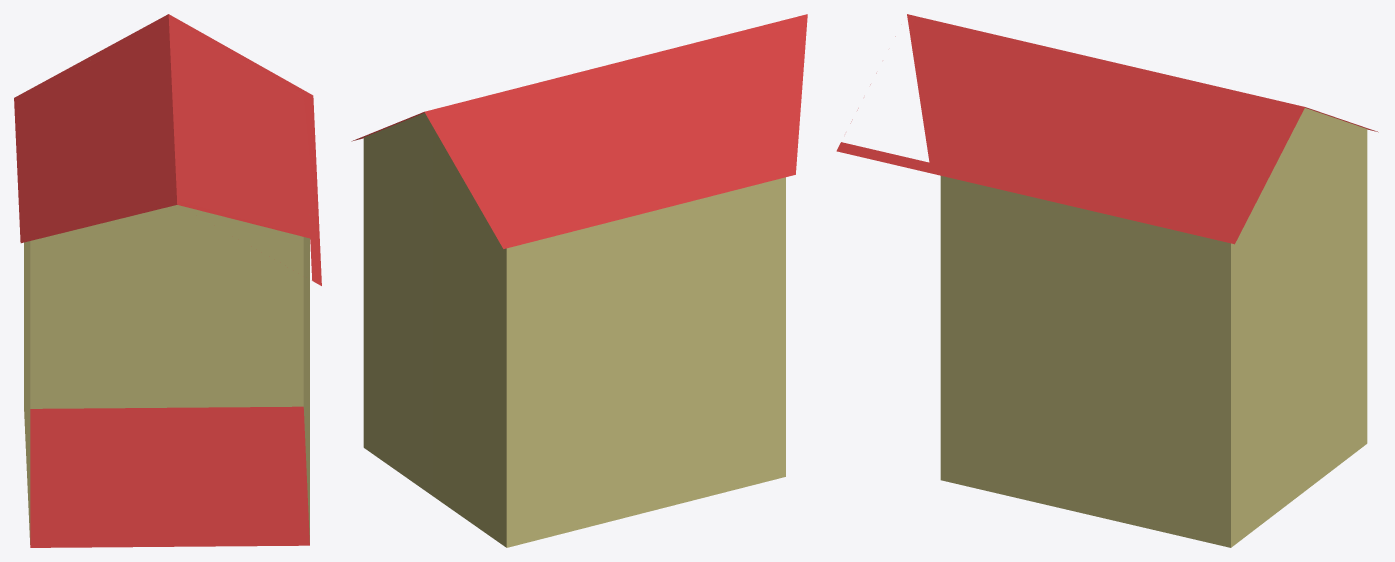
The picture shows the model from 3 angles, left to right: view 1: azimuth 30°, elevation 25°; view 2: azimuth 150°, elevation 25°; view 3: azimuth 270°, elevation 25°; orthographic projection.
Bounding box in the file's own units: 10.91 × 13.75 × 10.95.
